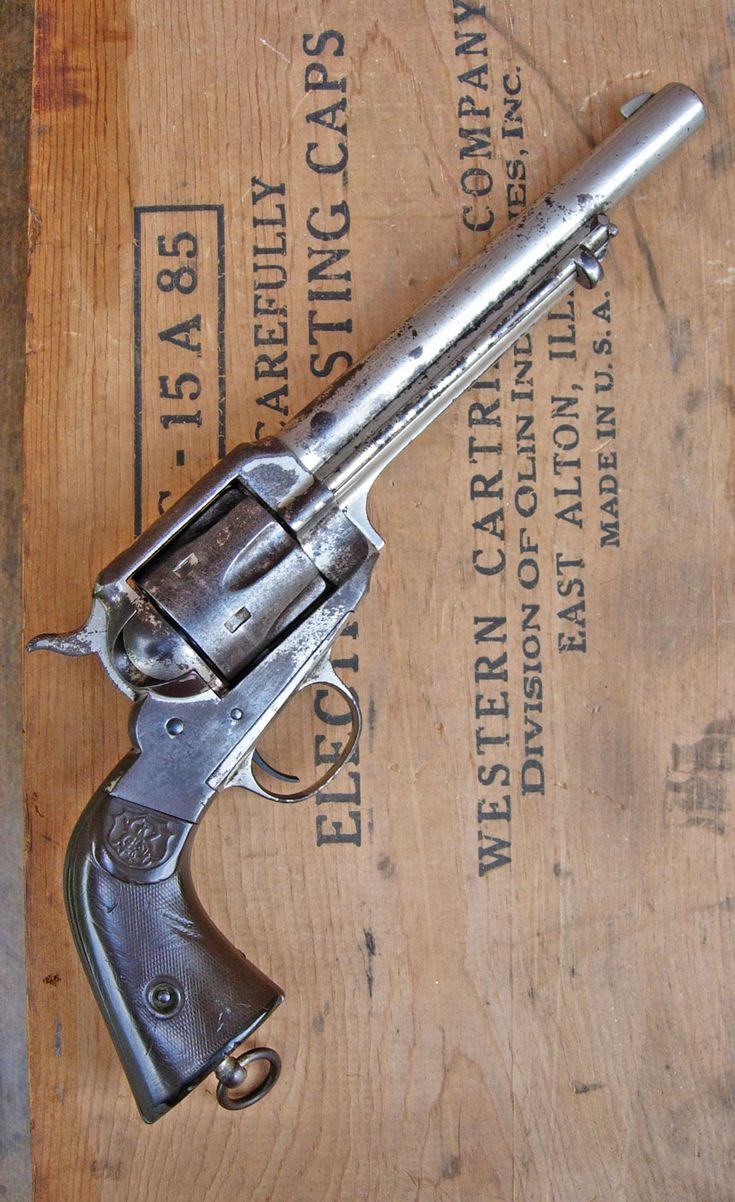GUN: (25, 79, 721, 1139)
